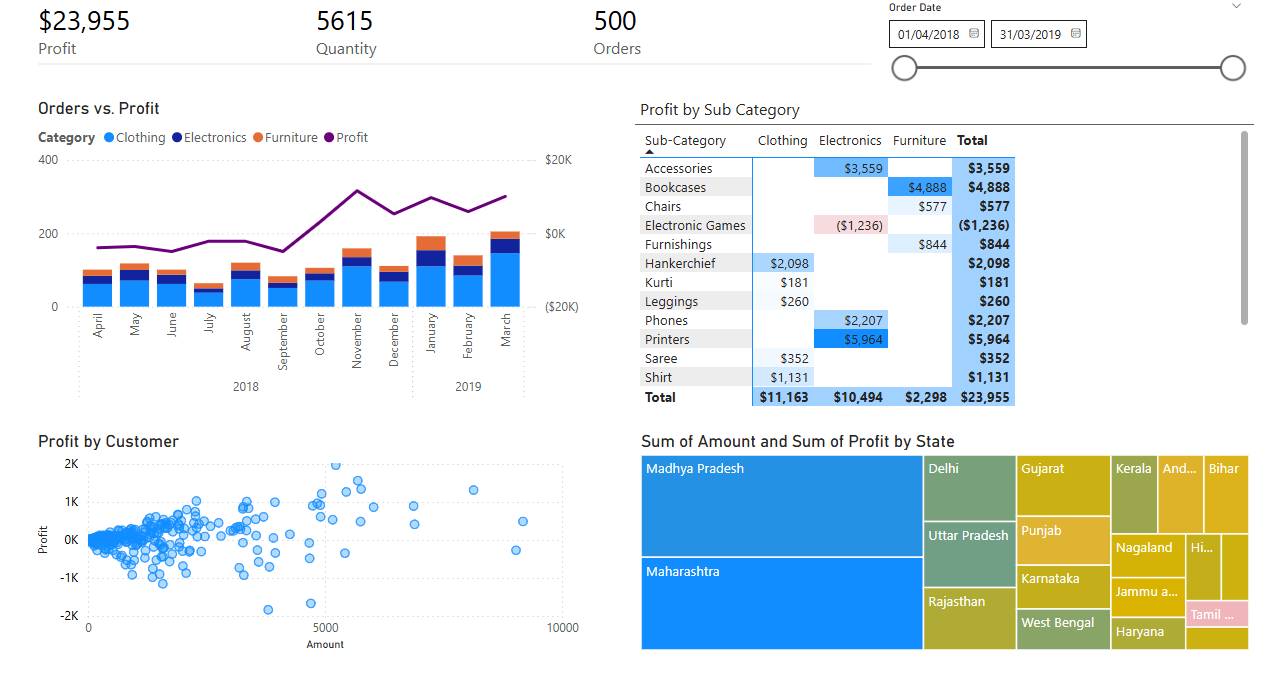

What the dashboard file says about the page in this screenshot:
{"tool":"powerbi","page":{"name":"Profit Analysis","canvas":[1280,720],"ordinal":0},"visuals":[{"type":"multiRowCard","fields":{"Values":["Sum(Order Details.Profit)","Sum(Order Details.Quantity)","Order Details.Order ID"]},"box":[38.1,0,842.4,79.8],"z":0},{"type":"lineStackedColumnComboChart","title":"Orders vs. Profit","fields":{"Category":["List of Orders.Order Date.Variation.Date Hierarchy.Year","List of Orders.Order Date.Variation.Date Hierarchy.Month"],"Y2":["Sum(Order Details.Profit)"],"Y":["CountNonNull(Order Details.Order ID)"],"Series":["Order Details.Category"]},"box":[38.1,101.6,551.3,311],"z":1000},{"type":"pivotTable","title":"Profit by Sub Category","fields":{"Rows":["Order Details.Sub-Category"],"Columns":["Order Details.Category"],"Values":["Sum(Order Details.Profit)"]},"box":[640.2,102.5,618.4,311],"z":2000},{"type":"scatterChart","title":"Profit by Customer","fields":{"Category":["List of Orders.CustomerName"],"X":["Sum(Order Details.Amount)"],"Y":["Sum(Order Details.Profit)"]},"box":[38.1,435.3,551.3,224],"z":3000},{"type":"treemap","fields":{"Values":["Sum(Order Details.Amount)"],"Group":["List of Orders.State"]},"box":[641.1,435.3,617.5,224],"z":4000},{"type":"slicer","fields":{"Values":["List of Orders.Order Date"]},"box":[880.5,0,378.1,101.6],"z":4001}]}

Visuals, with their boxes on the page's 1280x720 design canvas (x1, y1, x2, y2). These are canvas units, not pixel positions in the 1266x674 screenshot, which may show the page scaled, cropped or inside an application window:
multiRowCard - Sum(Order Details.Profit) x Sum(Order Details.Quantity): 38, 0, 880, 80
"Orders vs. Profit" lineStackedColumnComboChart: 38, 102, 589, 413
"Profit by Sub Category" pivotTable: 640, 102, 1259, 414
"Profit by Customer" scatterChart: 38, 435, 589, 659
treemap - Sum(Order Details.Amount) x List of Orders.State: 641, 435, 1259, 659
slicer - List of Orders.Order Date: 880, 0, 1259, 102
